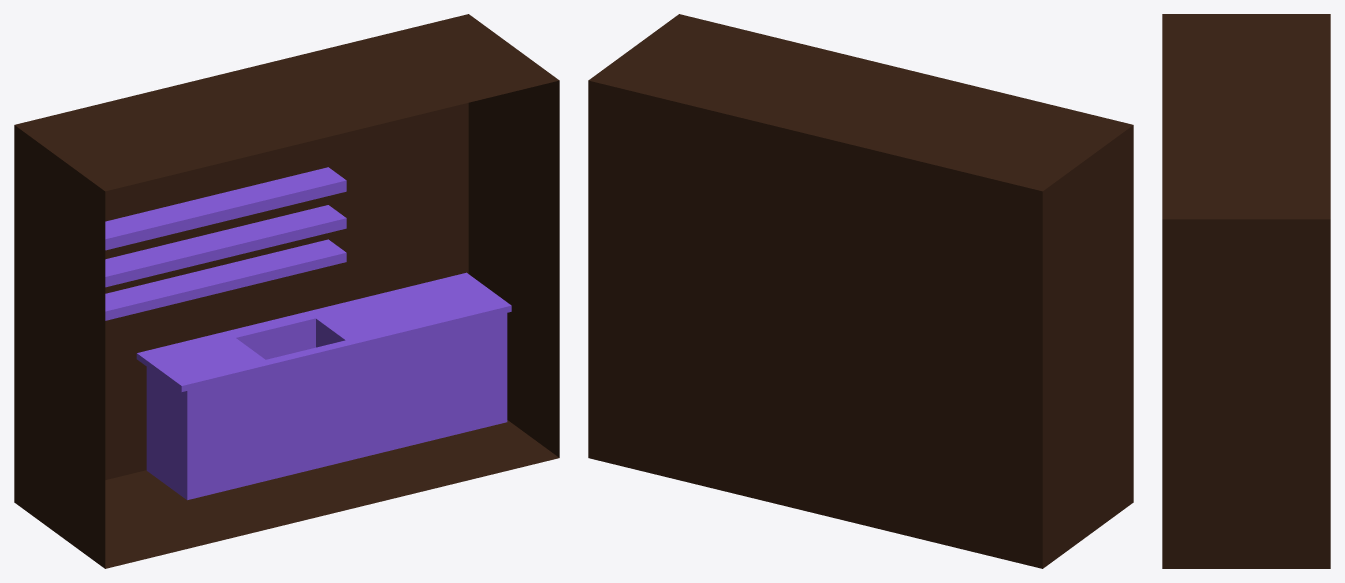
The model's file is back_room.fbx.
3 views of the same model, side by side, from view 1: azimuth 30°, elevation 25°; view 2: azimuth 150°, elevation 25°; view 3: azimuth 270°, elevation 25° (orthographic). The views are drawn at different scales.
Parts seen in each view (by area): view 1: Back Room, Sink Counter, Shelves; view 2: Back Room; view 3: Back Room.
Part boxes in pixels (<box>): Back Room: <box>14,14,559,568</box>; Sink Counter: <box>136,272,511,500</box>; Shelves: <box>105,167,346,320</box>; Back Room: <box>588,14,1133,568</box>; Back Room: <box>1162,14,1330,568</box>.
Size of the model in its own units: 5.77 by 4.58 by 2.
